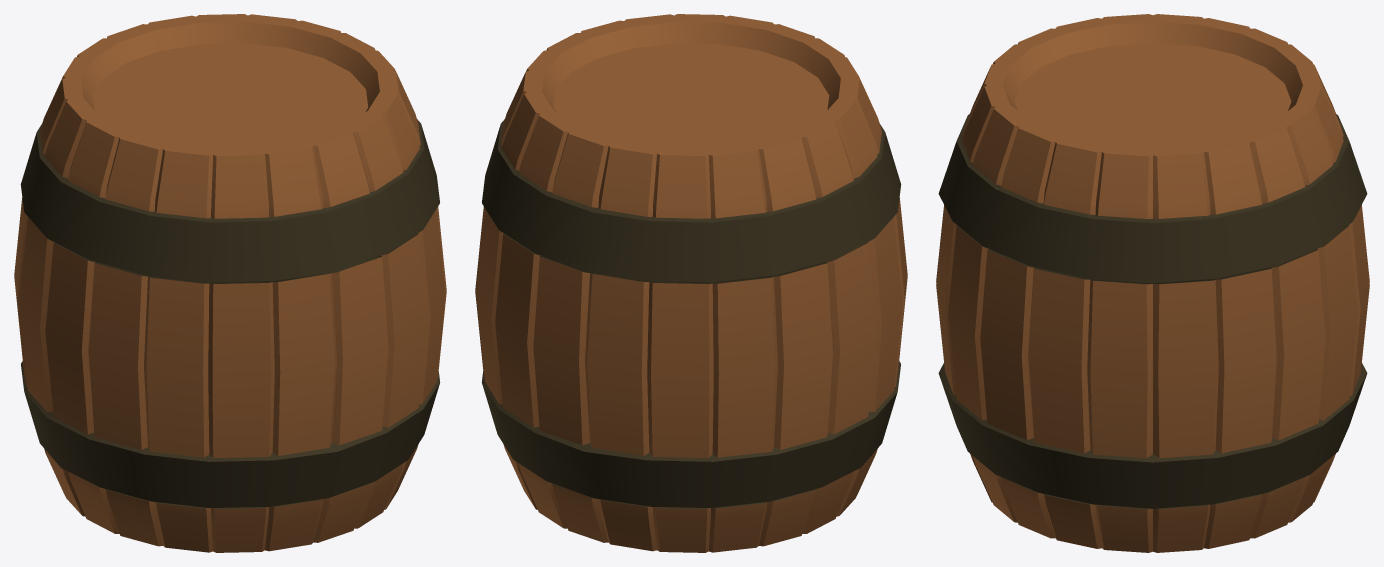
The model's file is 102_barrel.glb.
3 views of the same model, side by side, from view 1: azimuth 30°, elevation 25°; view 2: azimuth 150°, elevation 25°; view 3: azimuth 270°, elevation 25° (orthographic).
Parts seen in each view (by area): view 1: Circle; view 2: Circle; view 3: Circle.
Boxes of the visible parts, <box> form: Circle: <box>14,14,446,552</box>; Circle: <box>475,14,907,552</box>; Circle: <box>936,14,1369,552</box>.
Bounding box in the file's own units: 1.49 × 1.5 × 1.49.
